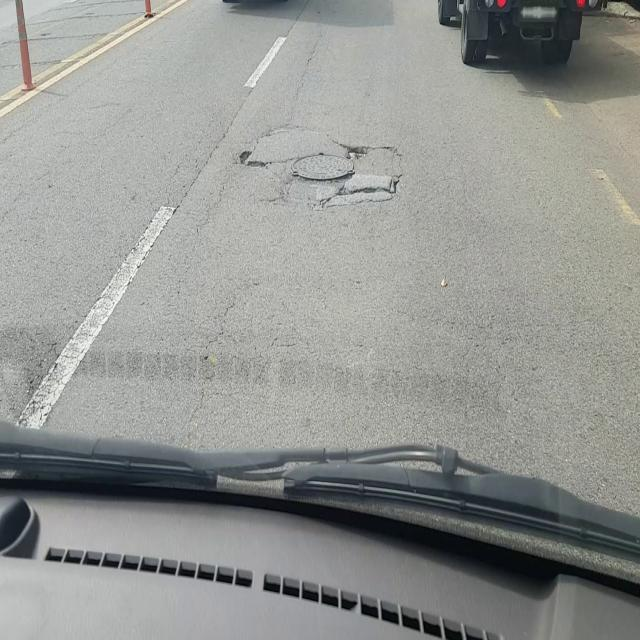Pothole: (292, 142, 374, 181)
